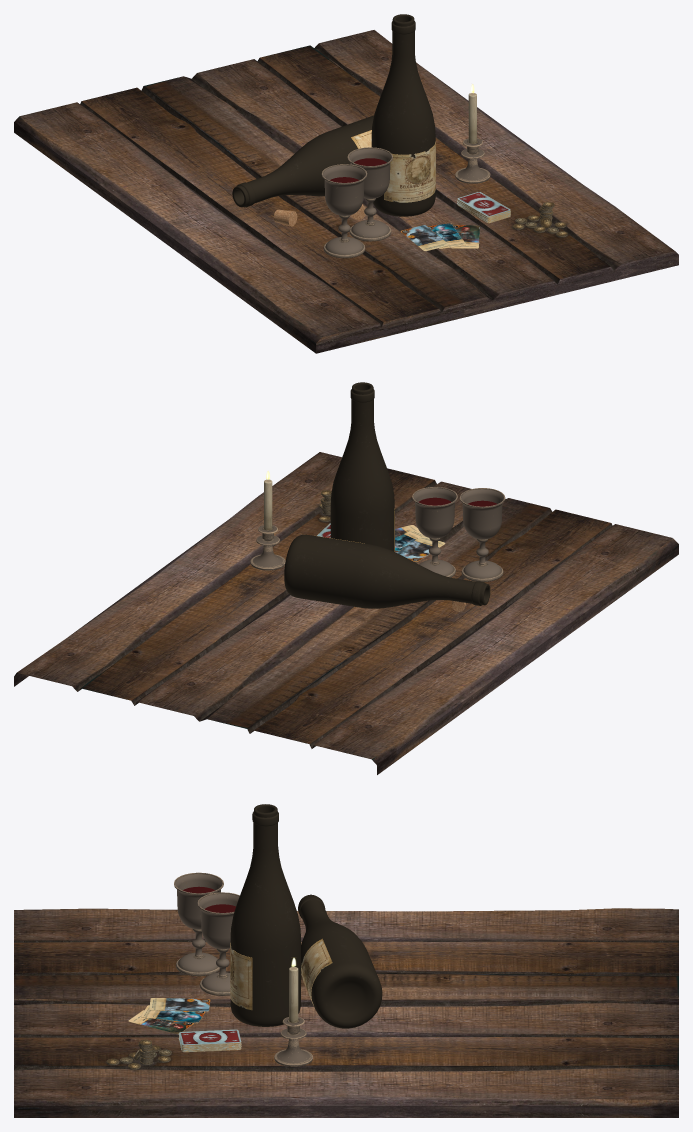
3 views of the same model, one above another, from view 1: azimuth 30°, elevation 25°; view 2: azimuth 150°, elevation 25°; view 3: azimuth 270°, elevation 25° (orthographic). The views are drawn at different scales.
Visible parts, largest first — view 1: Plane006, Cylinder007, Cylinder008, Cylinder011, Object008_bottle_0, Cylinder010, Cylinder018, Box007, Box027, Box005; view 2: Plane006, Cylinder008, Cylinder007, Cylinder011, Cylinder010, Cylinder018, Box007; view 3: Plane006, Cylinder007, Cylinder008, Cylinder011, Cylinder010, Object008_bottle_0, Cylinder018, Object009_bottle_0, Box027, Box007, Box005, Box006 (+1 smaller).
Boxes of the visible parts, x1=… form: Plane006: x1=14, y1=30, x2=678, y2=353; Cylinder007: x1=371, y1=14, x2=435, y2=216; Cylinder008: x1=232, y1=115, x2=373, y2=207; Cylinder011: x1=321, y1=164, x2=367, y2=258; Object008_bottle_0: x1=384, y1=141, x2=435, y2=202; Cylinder010: x1=347, y1=147, x2=393, y2=241; Cylinder018: x1=455, y1=138, x2=490, y2=183; Box007: x1=400, y1=225, x2=448, y2=251; Box027: x1=457, y1=192, x2=510, y2=216; Box005: x1=427, y1=223, x2=465, y2=248; Plane006: x1=14, y1=452, x2=678, y2=774; Cylinder008: x1=284, y1=534, x2=490, y2=608; Cylinder007: x1=330, y1=382, x2=394, y2=551; Cylinder011: x1=459, y1=488, x2=505, y2=581; Cylinder010: x1=412, y1=487, x2=457, y2=577; Cylinder018: x1=250, y1=525, x2=285, y2=570; Box007: x1=396, y1=536, x2=445, y2=562; Plane006: x1=14, y1=908, x2=678, y2=1117; Cylinder007: x1=230, y1=804, x2=300, y2=1026; Cylinder008: x1=298, y1=894, x2=382, y2=1028; Cylinder011: x1=174, y1=872, x2=223, y2=976; Cylinder010: x1=197, y1=892, x2=239, y2=995; Object008_bottle_0: x1=230, y1=943, x2=252, y2=1010; Cylinder018: x1=274, y1=1017, x2=312, y2=1066; Object009_bottle_0: x1=301, y1=938, x2=332, y2=1005; Box027: x1=179, y1=1029, x2=241, y2=1045; Box007: x1=149, y1=998, x2=210, y2=1011; Box005: x1=141, y1=1005, x2=205, y2=1023; Box006: x1=128, y1=1010, x2=193, y2=1034.
Size of the model in its own units: 0.7111 by 0.3787 by 1.03.
Materials: 5 (5 with a texture image).
